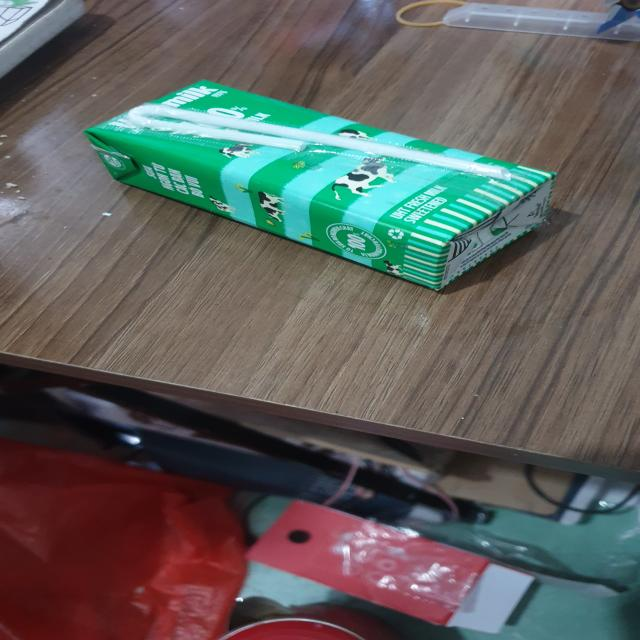Vina: (83, 78, 566, 295)
